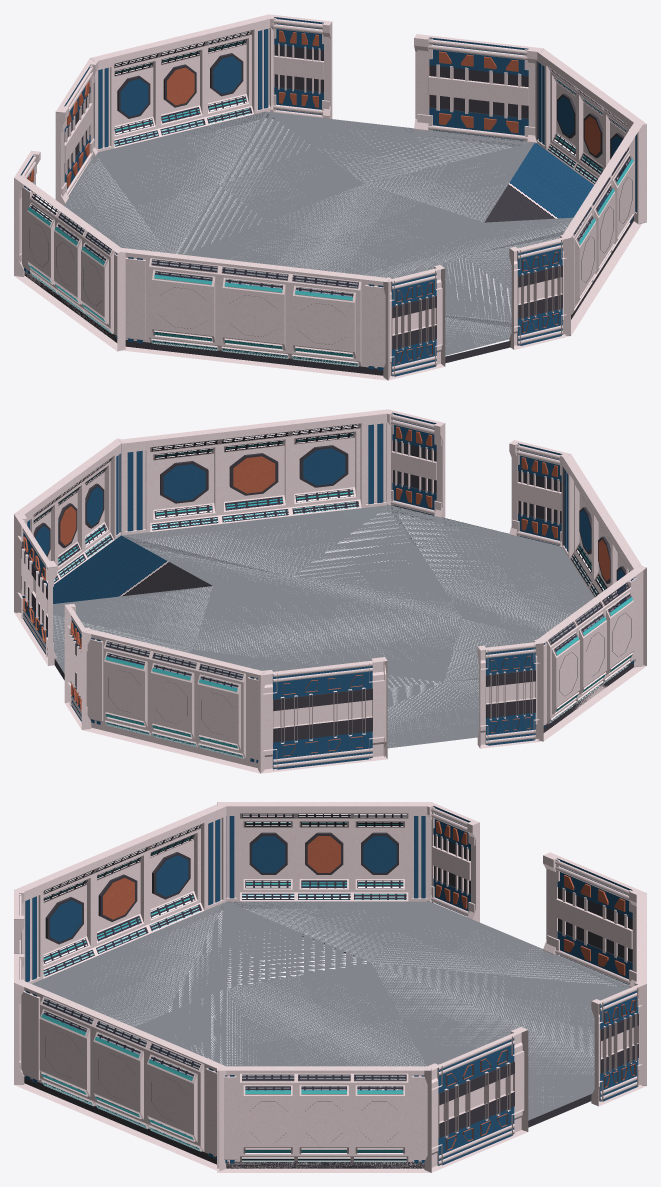
The model's file is BossRoom.fbx.
3 renders of one model, top to bottom at view 1: azimuth 30°, elevation 25°; view 2: azimuth 150°, elevation 25°; view 3: azimuth 270°, elevation 25°, orthographic. The views are drawn at different scales.
Visible parts, largest first — view 1: _3dMesh; view 2: _3dMesh; view 3: _3dMesh.
Part boxes in pixels (x1,y1,x2,y2): _3dMesh: (14,14,646,380); _3dMesh: (14,409,646,773); _3dMesh: (14,802,646,1172).
Size of the model in its own units: 1860 by 330 by 1852.
